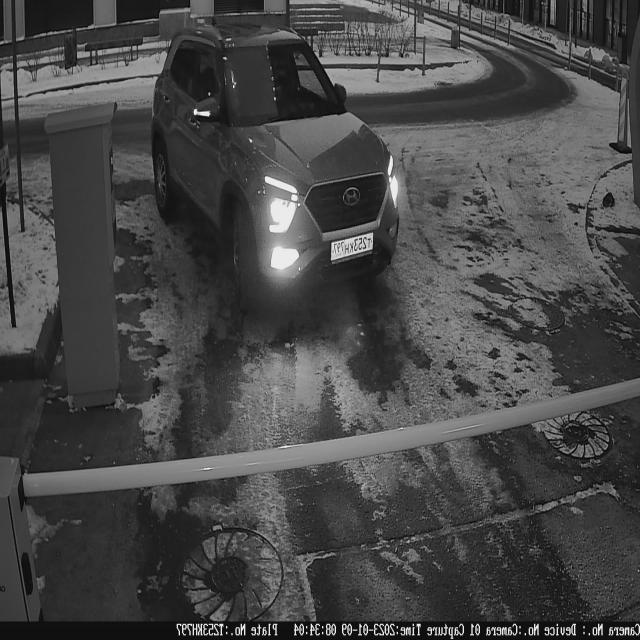car-plate-numbers: (330, 227, 378, 265)
